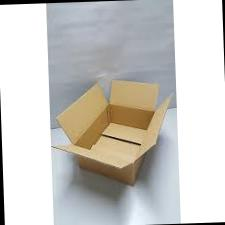Kertas: (54, 80, 169, 183)
